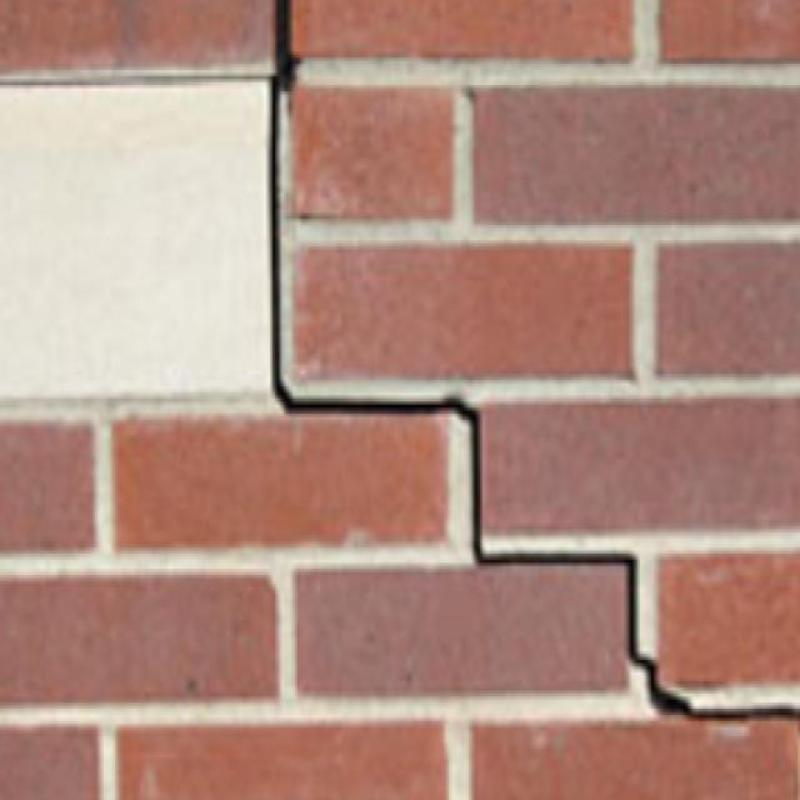crack: (270, 0, 799, 719)
